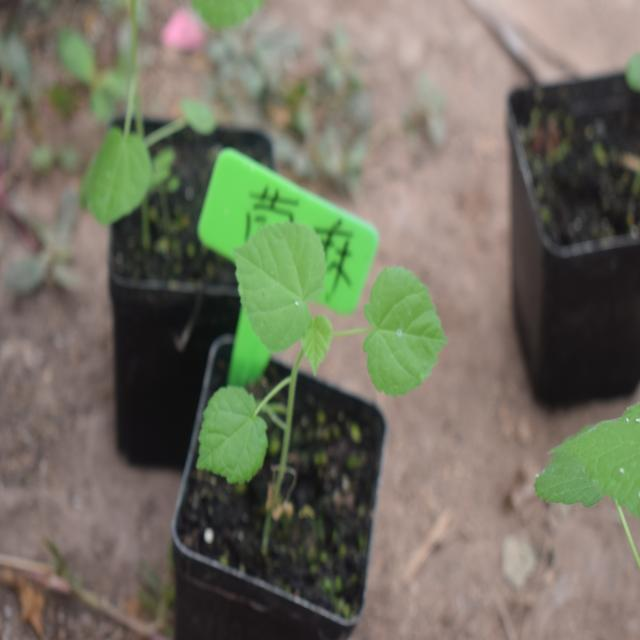abutilon theophrasti: (165, 224, 442, 525)
